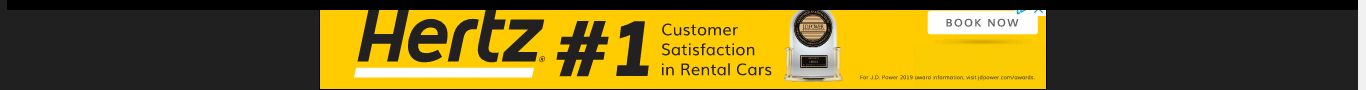fake_button: (917, 6, 1046, 40)
